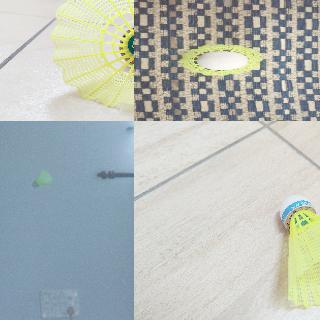shuttlecock: (48, 0, 133, 109), (272, 194, 319, 308), (180, 44, 262, 76), (32, 170, 52, 188)
